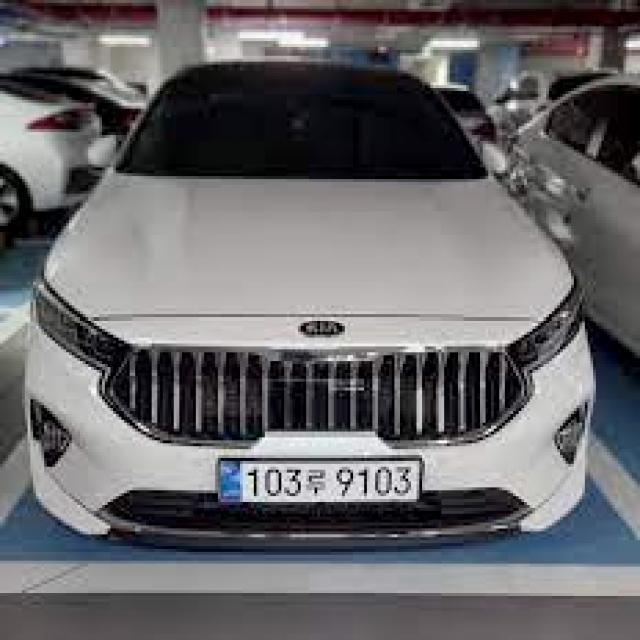car: (23, 39, 610, 575)
illegal_plate: (216, 455, 428, 518)
